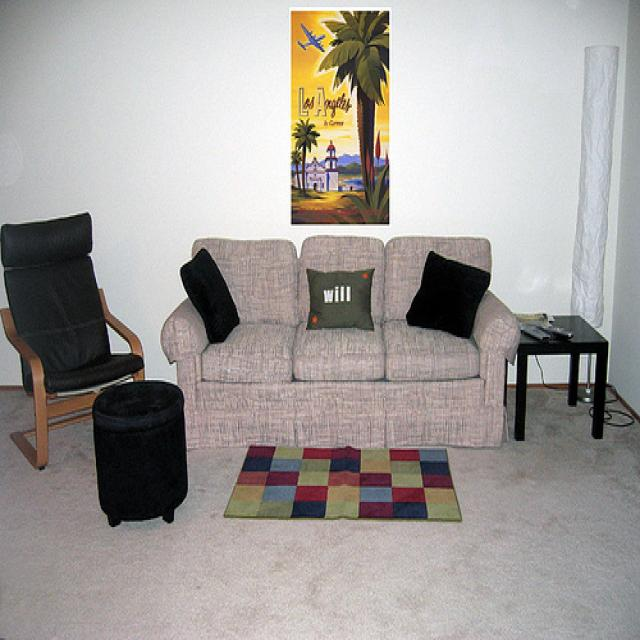chair: (1, 211, 147, 474)
sofa: (161, 236, 521, 451)
